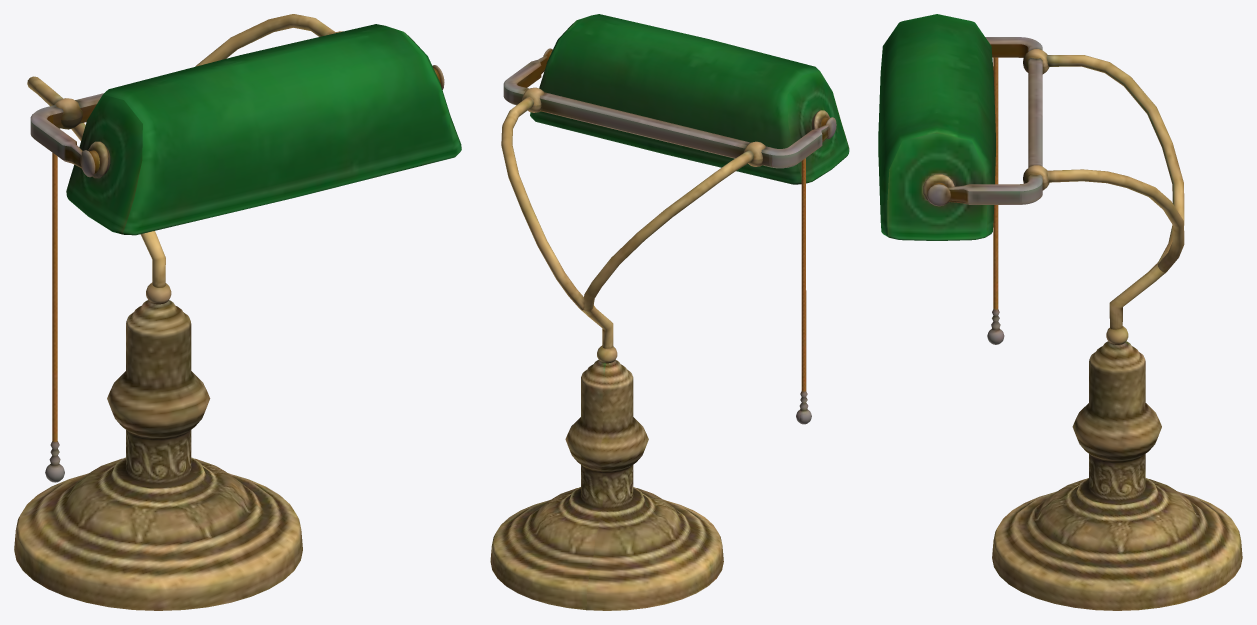
Rendered from SM_Night_lamp_3_02d5ed.glb.
The picture shows the model from 3 angles, left to right: view 1: azimuth 30°, elevation 25°; view 2: azimuth 150°, elevation 25°; view 3: azimuth 270°, elevation 25°; orthographic projection. The views are drawn at different scales.
Bounding box in the file's own units: 0.4349 × 0.6472 × 0.4354.
Materials: 1 (1 with a texture image).
